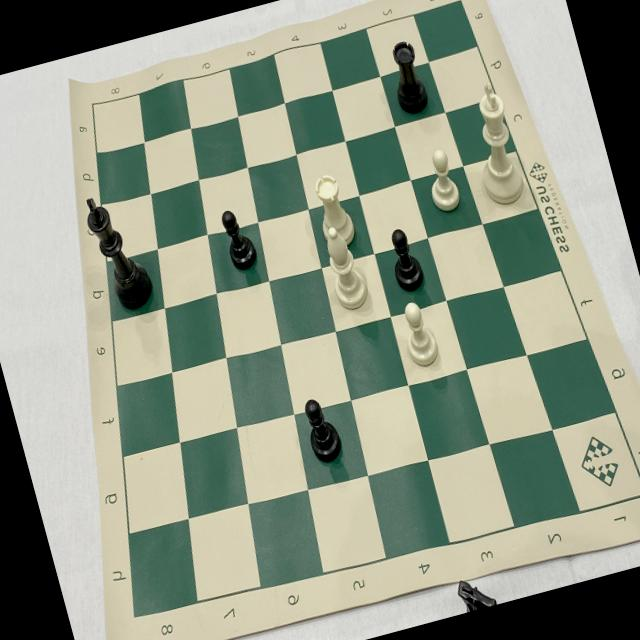black-king: (76, 184, 159, 318)
black-pawn: (293, 386, 350, 474), (379, 220, 432, 300), (215, 196, 262, 278)
black-rook: (378, 32, 438, 122)
white-bishop: (312, 215, 379, 322)
white-king: (450, 70, 537, 217)
white-pawn: (390, 294, 450, 376), (414, 138, 467, 219)
white-rook: (304, 162, 364, 257)
